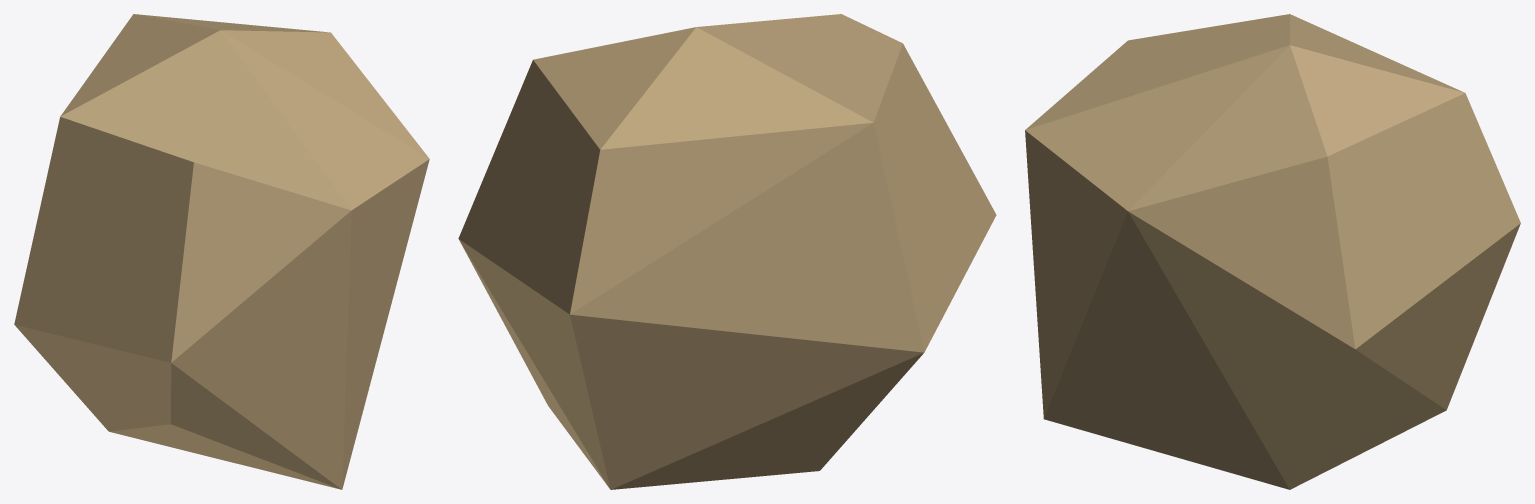
Rendered from Rock-A07.fbx.
The picture shows the model from 3 angles, left to right: view 1: azimuth 30°, elevation 25°; view 2: azimuth 150°, elevation 25°; view 3: azimuth 270°, elevation 25°; orthographic projection. The views are drawn at different scales.
Visible parts, largest first — view 1: Rock-A07; view 2: Rock-A07; view 3: Rock-A07.
Boxes of the visible parts, x1,y1,x2,y2 form: Rock-A07: (14,14,429,489); Rock-A07: (458,14,996,489); Rock-A07: (1025,14,1520,489).
Bounding box in the file's own units: 52.8 × 48.66 × 57.74.
